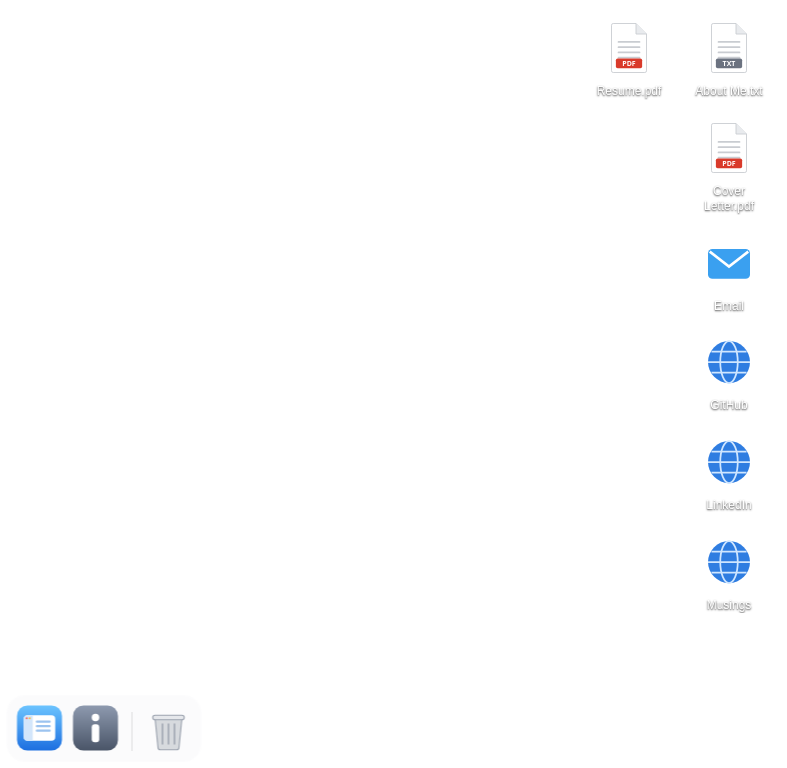
Test: FileDragAndDropProvider › cancels a drag with Escape
Check: the button "TXT About Me.txt" is shown, box [683, 12, 775, 104]
Press the mouse on the button "GitHub" at (729, 372), box [683, 326, 775, 418]
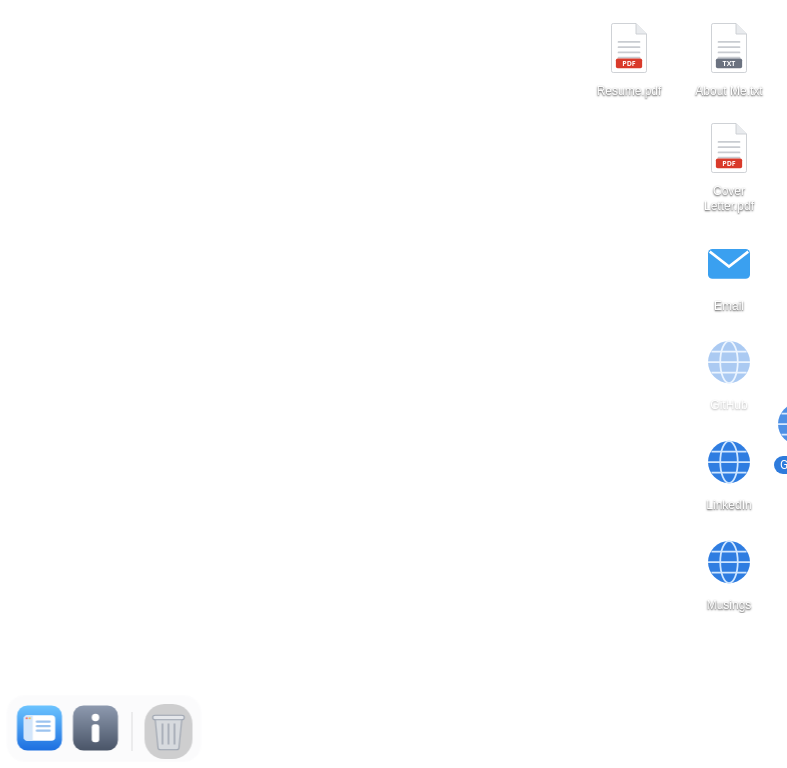
Press Escape
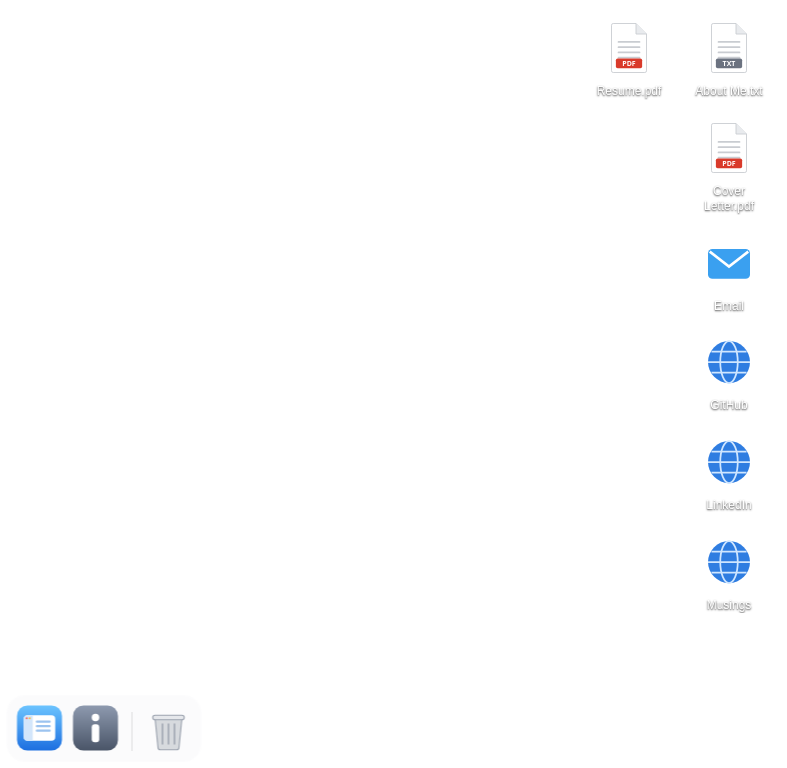
Check: the element with test id "dragged-item-preview" is gone
